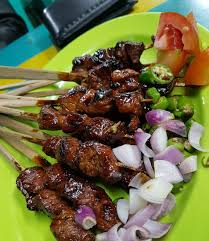sate: (19, 21, 206, 241)
